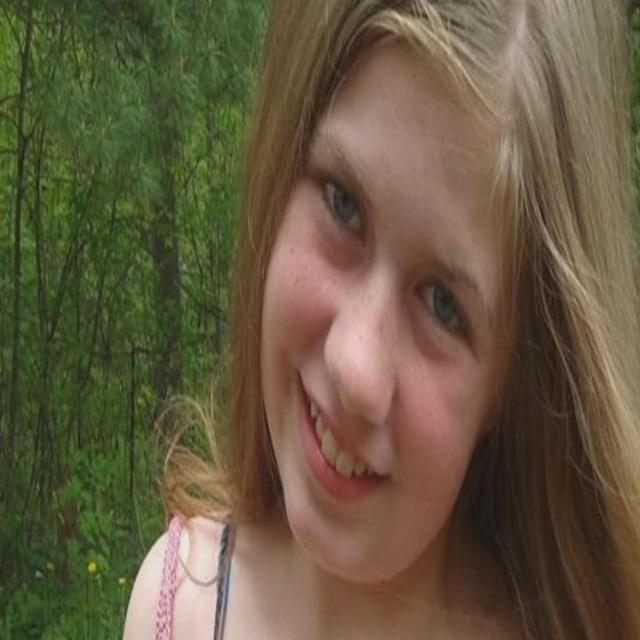mobile_phonerotation: (119, 1, 637, 637)
